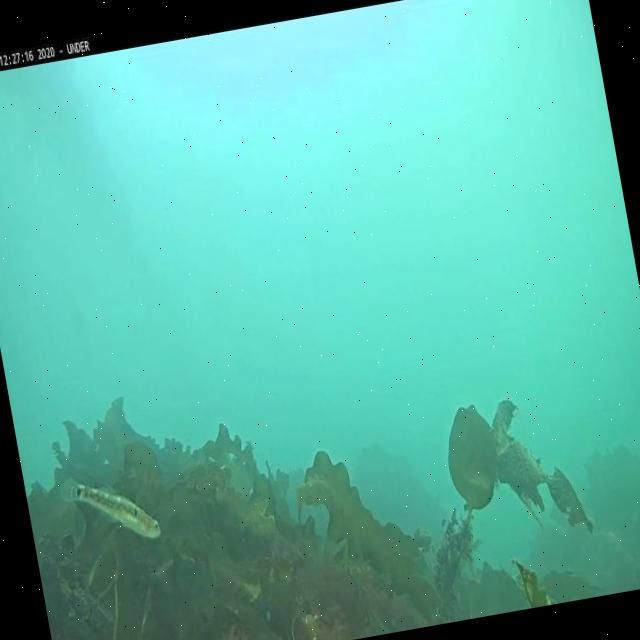fish: (64, 468, 162, 553)
